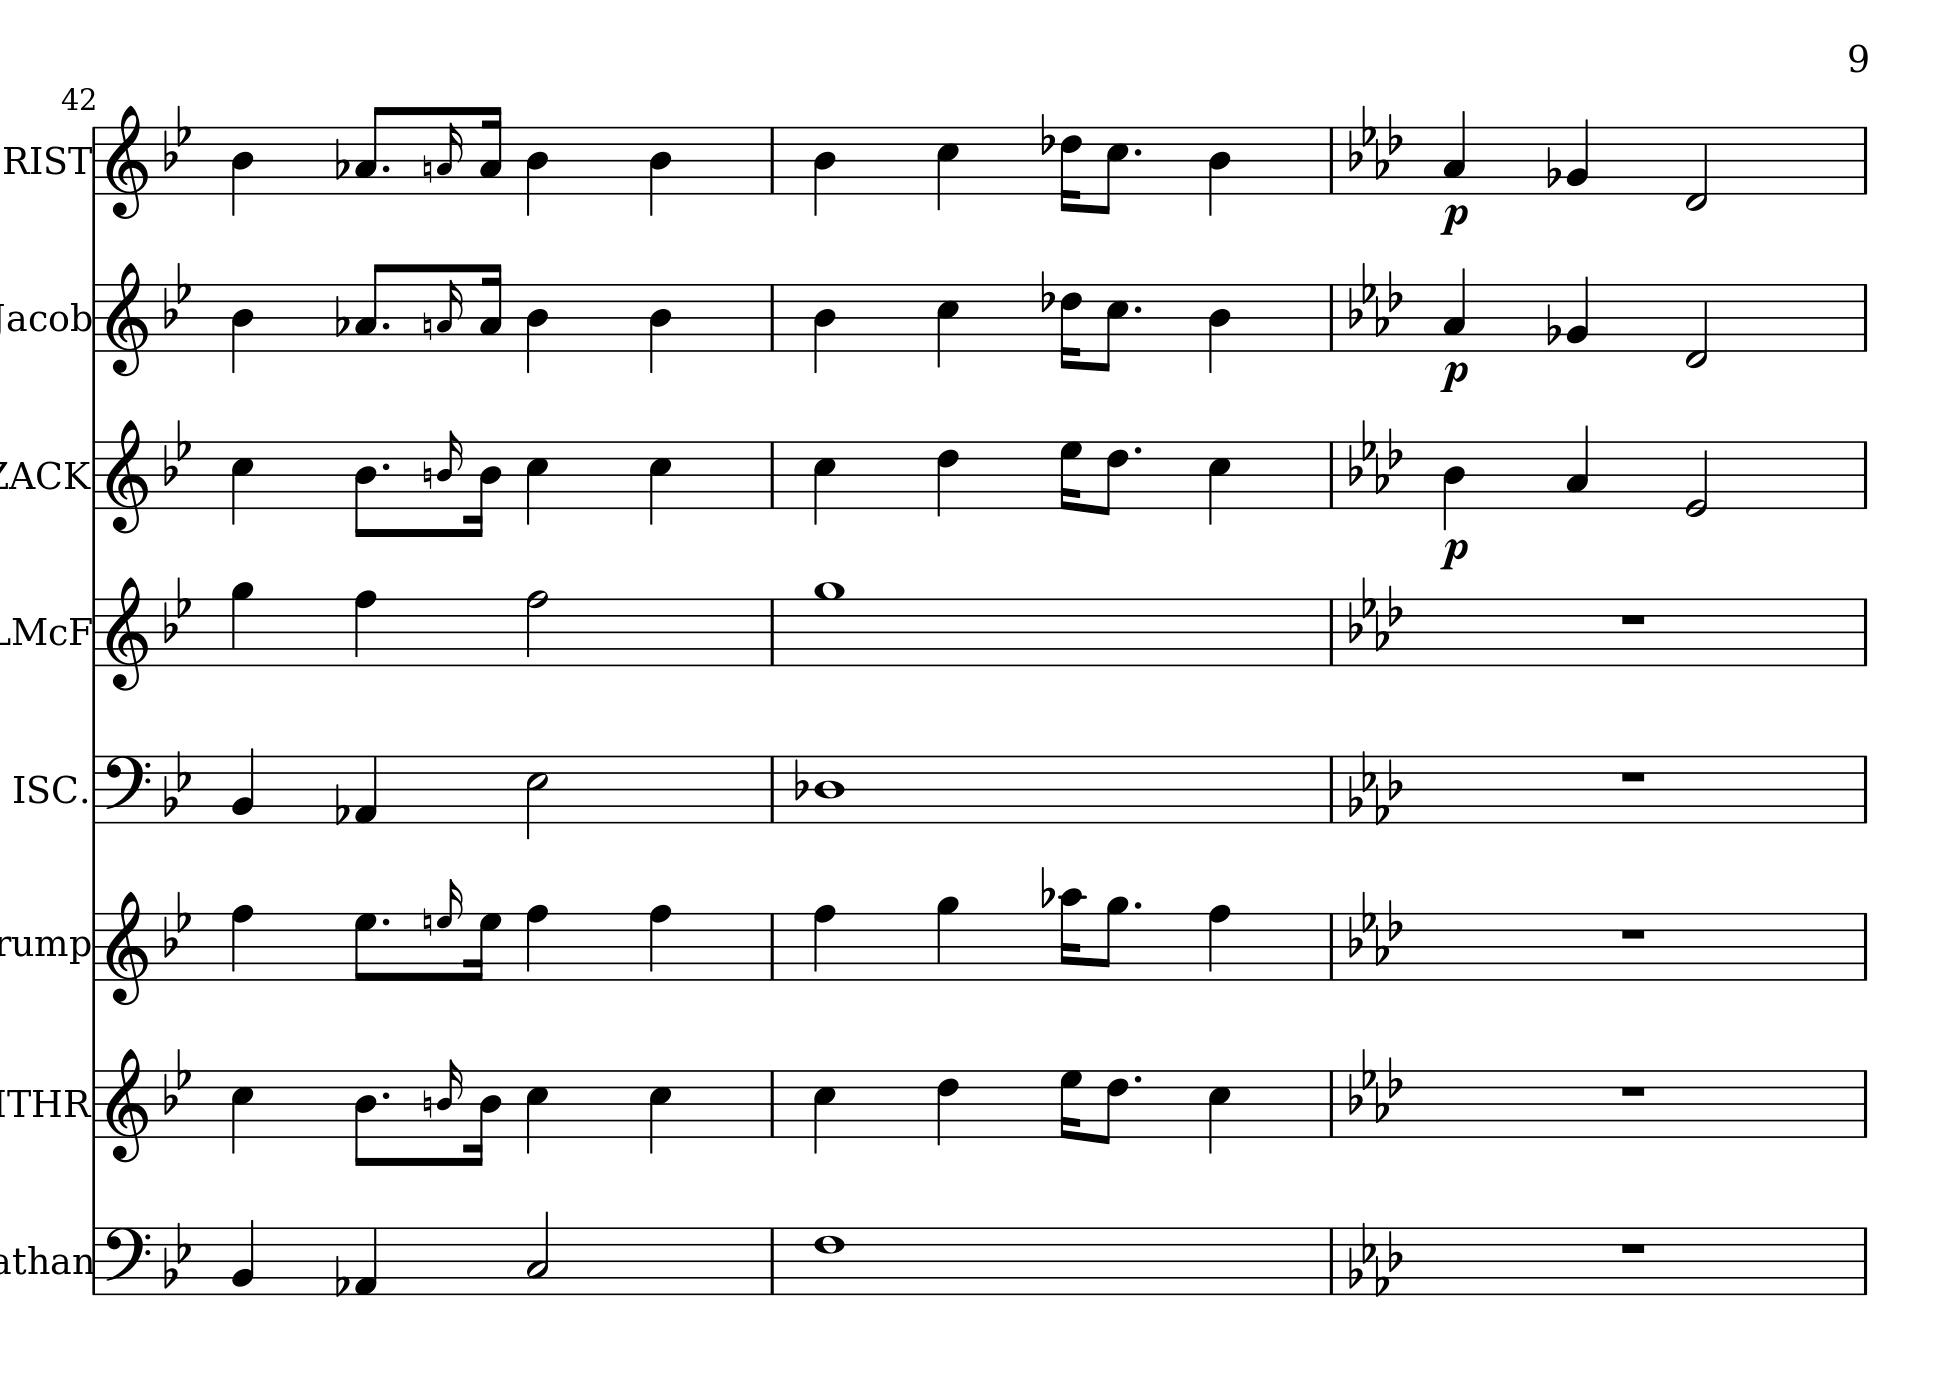16_10: (1056, 886, 1086, 982)
16_3: (478, 103, 504, 195), (478, 261, 502, 352)
16_4: (465, 439, 502, 538), (465, 1068, 502, 1167), (435, 1056, 462, 1138), (435, 430, 462, 505)
16_6: (1059, 124, 1083, 214), (1059, 282, 1083, 370)
16_7: (463, 912, 502, 982), (1059, 1066, 1083, 1141), (1059, 439, 1083, 511)
1_4: (813, 751, 846, 825)
1_6: (811, 1224, 846, 1296)
1_9: (811, 580, 846, 667)
2: (78, 85, 96, 111)
2_-1: (1683, 280, 1710, 369), (1684, 124, 1710, 211)
2_0: (1684, 438, 1710, 517)
2_3: (523, 1207, 550, 1294)
2_5: (523, 754, 549, 841)
2_8: (523, 586, 550, 667)
4: (60, 85, 79, 111)
4_1: (354, 1225, 379, 1297), (354, 754, 379, 825)
4_2: (229, 1216, 256, 1296), (1566, 115, 1591, 196), (1566, 274, 1591, 352), (231, 745, 256, 823)
4_3: (1443, 265, 1468, 351), (1443, 108, 1467, 195), (1566, 423, 1590, 508)
4_4: (229, 280, 255, 375), (229, 124, 255, 217), (523, 124, 549, 217), (648, 124, 673, 217), (1207, 124, 1233, 217), (523, 282, 549, 373), (648, 282, 673, 373), (811, 282, 837, 373), (1207, 282, 1233, 373), (813, 124, 837, 216), (1443, 439, 1467, 529)
4_5: (229, 1066, 256, 1156), (523, 1066, 550, 1155), (646, 1068, 673, 1156), (811, 1068, 838, 1156), (1206, 1068, 1233, 1156), (934, 124, 961, 211), (934, 282, 961, 369), (646, 439, 673, 526), (811, 439, 838, 526), (229, 439, 255, 526), (523, 439, 549, 526), (1207, 439, 1233, 526)
4_6: (934, 1066, 961, 1147), (934, 438, 960, 517)
4_8: (646, 901, 673, 982), (811, 901, 838, 982), (352, 586, 378, 667), (229, 901, 255, 982), (523, 901, 549, 982), (1207, 903, 1231, 982)
4_9: (934, 894, 961, 982), (229, 580, 255, 667)
8_3: (352, 262, 387, 352), (354, 103, 387, 196)
8_4: (352, 1066, 378, 1168), (352, 439, 378, 540)
8_5: (1098, 124, 1131, 216), (1098, 282, 1131, 373)
8_6: (1099, 1066, 1131, 1146), (1099, 439, 1129, 517)
8_7: (352, 910, 379, 982)
8_9: (1098, 895, 1131, 982)
9: (1848, 40, 1869, 72)
A_F: (1347, 576, 1405, 651), (1348, 418, 1405, 493), (1348, 103, 1404, 180), (1348, 261, 1404, 337), (1348, 889, 1404, 966), (1348, 1047, 1404, 1122), (1348, 750, 1404, 823), (1348, 1221, 1402, 1294)
B_F: (160, 256, 193, 328), (162, 573, 193, 643), (160, 102, 192, 171), (162, 888, 193, 957), (162, 415, 192, 484), (162, 1045, 192, 1114), (162, 1219, 192, 1288), (162, 748, 190, 817)
Fclef: (103, 753, 151, 825), (103, 1224, 151, 1294)
Flat: (1038, 862, 1056, 910), (331, 1252, 349, 1299), (331, 136, 349, 181), (1038, 112, 1056, 157), (331, 292, 349, 337), (1038, 270, 1056, 315), (331, 781, 349, 826), (1545, 301, 1561, 346), (792, 756, 808, 801), (1545, 145, 1561, 187)
Gclef: (103, 1045, 150, 1165), (103, 417, 150, 535), (103, 574, 150, 693), (103, 259, 150, 376), (103, 103, 148, 220), (103, 889, 148, 1006)
Hn: (1, 1081, 88, 1126)
Natural: (421, 151, 433, 186), (421, 309, 433, 343), (421, 459, 433, 490), (421, 906, 433, 937), (421, 1087, 433, 1119)
Rests1: (1617, 922, 1650, 943), (1617, 1237, 1650, 1258), (1617, 766, 1650, 786), (1617, 1080, 1650, 1099), (1618, 610, 1648, 628)
Single_barline: (1852, 1225, 1875, 1294), (1854, 912, 1876, 979), (1854, 1069, 1876, 1137), (763, 597, 784, 664), (763, 1225, 783, 1294), (1854, 597, 1873, 664), (763, 754, 783, 822), (1855, 754, 1875, 822), (763, 126, 781, 193), (763, 283, 781, 351), (763, 439, 781, 507), (763, 912, 781, 979), (1323, 598, 1341, 664), (763, 1069, 781, 1135), (1323, 127, 1341, 192), (1323, 283, 1341, 348), (1323, 913, 1341, 978), (1324, 1225, 1341, 1293), (1857, 127, 1873, 193), (1857, 283, 1873, 349), (1857, 441, 1873, 507), (1324, 754, 1341, 820), (1323, 1069, 1339, 1135), (1323, 441, 1339, 505), (88, 1227, 103, 1294), (88, 124, 100, 193), (90, 441, 102, 510), (88, 283, 100, 351), (90, 598, 102, 666), (88, 756, 100, 823), (88, 1069, 100, 1135), (90, 912, 100, 979)
dot: (1131, 301, 1146, 316), (1131, 144, 1144, 159), (1131, 442, 1144, 457), (1131, 1071, 1144, 1086), (378, 1087, 391, 1102), (378, 459, 391, 472), (379, 162, 391, 175), (1131, 897, 1143, 910), (379, 915, 391, 928), (379, 319, 391, 331)
p: (1440, 358, 1470, 394), (1440, 535, 1470, 571), (1440, 202, 1470, 237)
